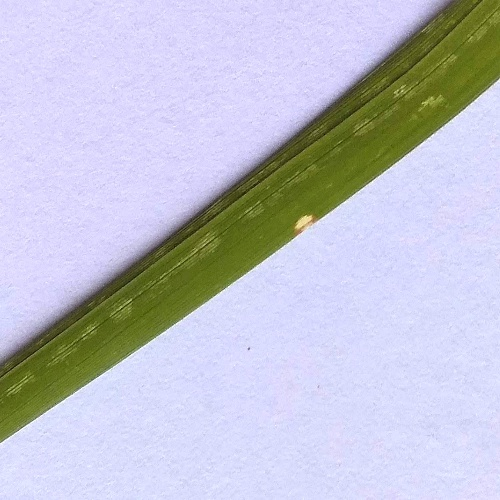Busuk Leher: (287, 203, 323, 242)
